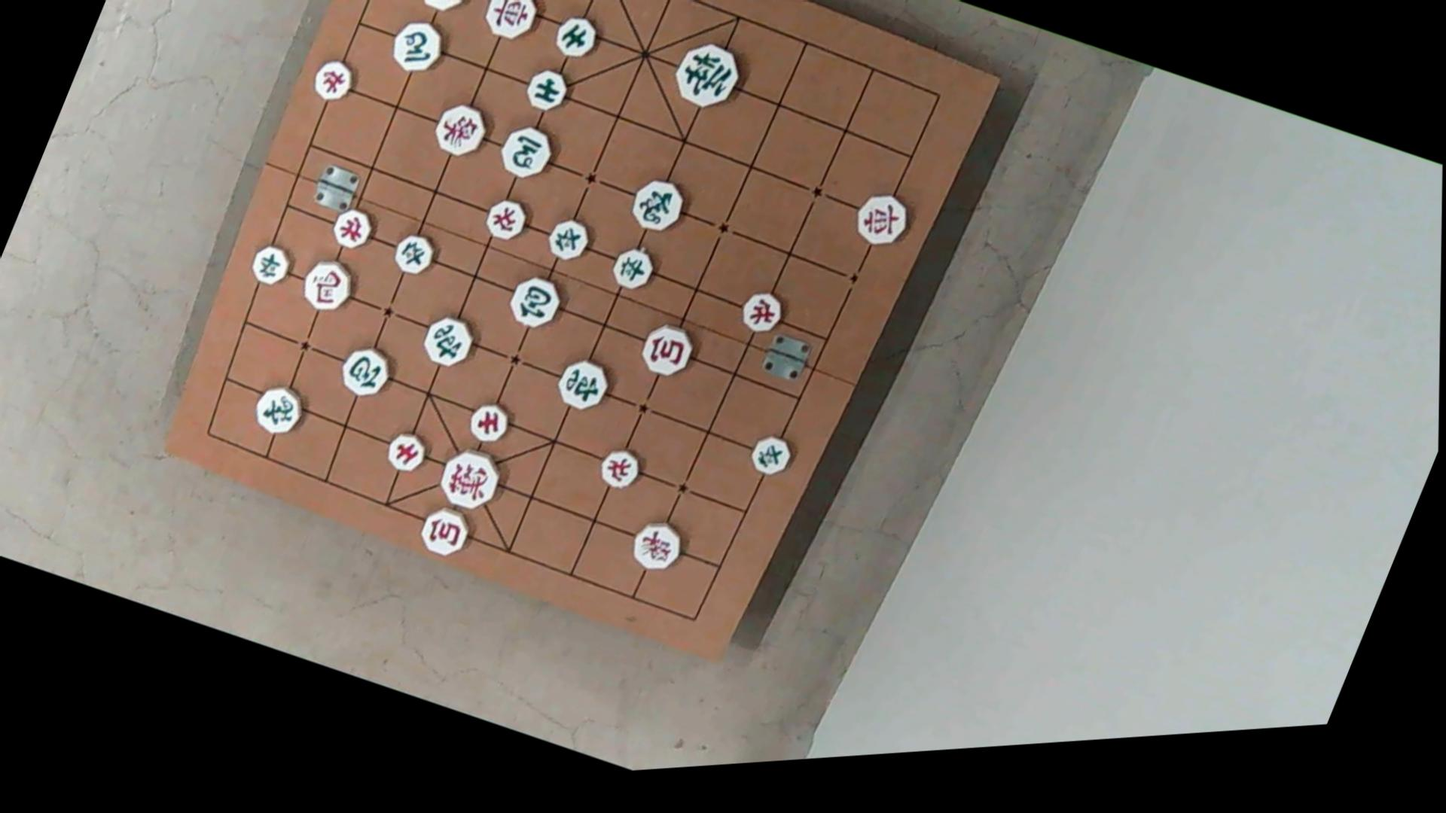cha_green: (554, 349, 617, 415), (418, 306, 480, 371)
cha_red: (848, 183, 913, 251), (478, 0, 541, 47)
jol_green: (747, 426, 798, 479), (608, 243, 657, 296), (545, 213, 594, 266), (389, 228, 438, 280), (246, 238, 294, 288)
jol_red: (738, 285, 789, 339), (482, 191, 532, 245), (594, 440, 645, 492), (307, 53, 356, 105), (327, 202, 376, 253)
ma_green: (383, 11, 450, 81), (493, 118, 557, 186)
ma_red: (297, 250, 359, 317), (416, 0, 477, 17)
po_green: (505, 269, 569, 335), (334, 338, 396, 404)
po_red: (633, 316, 697, 382), (414, 499, 475, 562)
sa_green: (520, 62, 572, 116), (552, 9, 603, 62)
sa_red: (383, 425, 432, 476), (463, 394, 511, 446)
sang_green: (629, 170, 692, 237), (249, 376, 308, 439)
sang_red: (623, 512, 688, 580), (429, 96, 490, 162)
wang_green: (670, 32, 749, 115)
wang_red: (435, 441, 509, 517)
